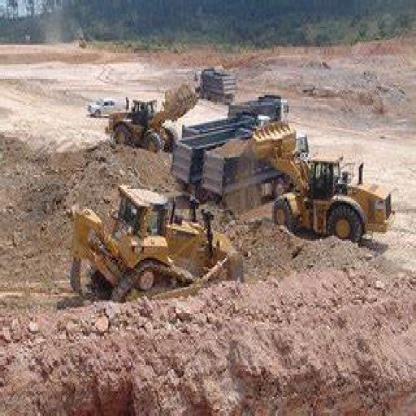bull_dozer/loader/grader: (48, 168, 254, 316)
